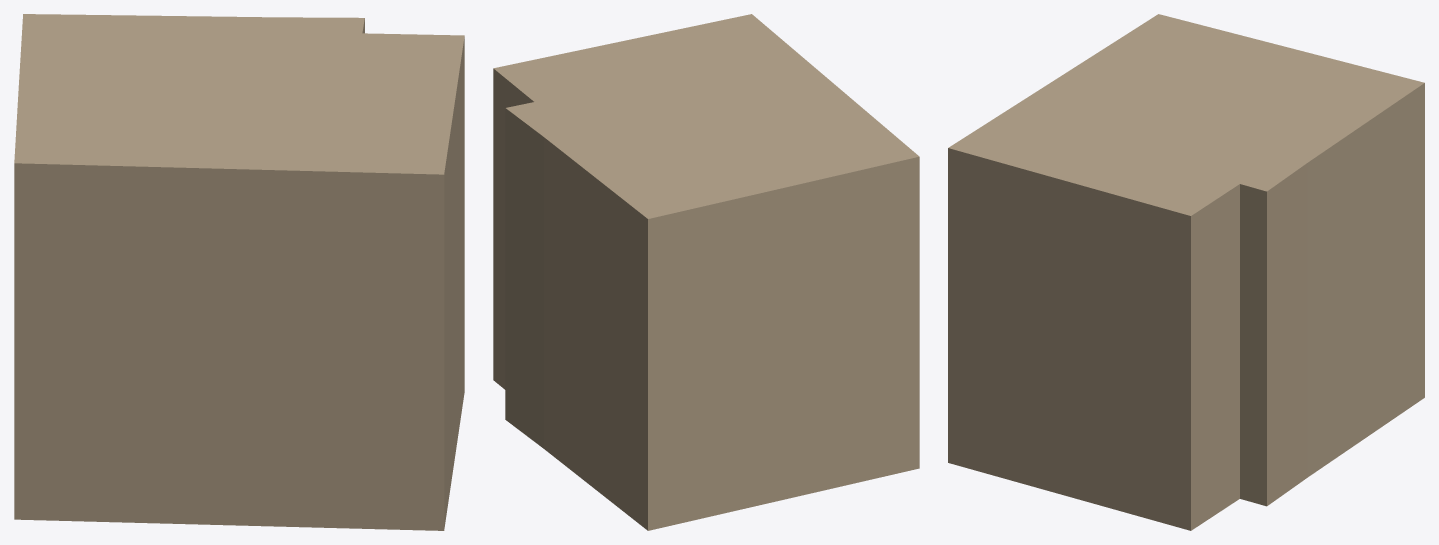
File: bld_107914676.dae
3 renders of one model, left to right at view 1: azimuth 30°, elevation 25°; view 2: azimuth 150°, elevation 25°; view 3: azimuth 270°, elevation 25°, orthographic. The views are drawn at different scales.
Parts seen in each view (by area): view 1: bld_107914676; view 2: bld_107914676; view 3: bld_107914676.
Boxes of the visible parts, bbox=[...] form: bld_107914676: bbox=[14, 14, 464, 530]; bld_107914676: bbox=[493, 14, 919, 530]; bld_107914676: bbox=[948, 14, 1424, 530].
Size of the model in its own units: 16.52 by 16.47 by 12.
